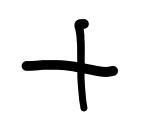plus: (20, 19, 118, 110)
